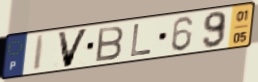6: (170, 14, 195, 54)
9: (200, 9, 228, 49)
B: (94, 24, 126, 63)
I: (32, 33, 47, 72)
L: (128, 22, 154, 58)
V: (56, 27, 91, 69)
